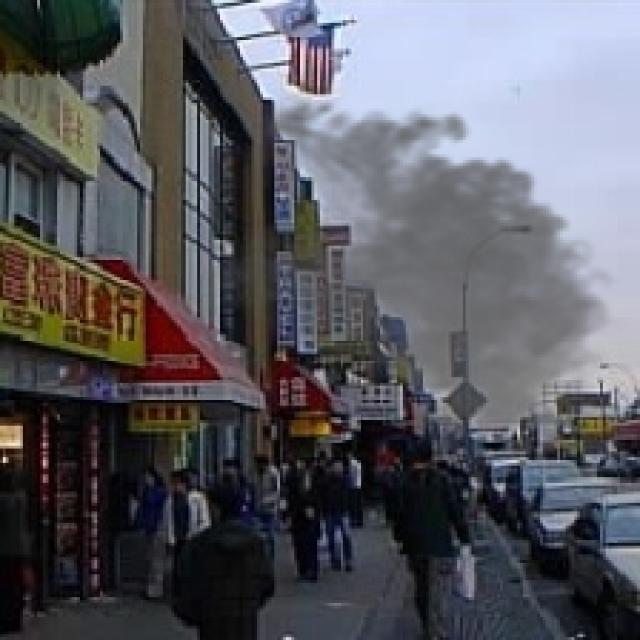Smoke: (220, 88, 629, 440)
